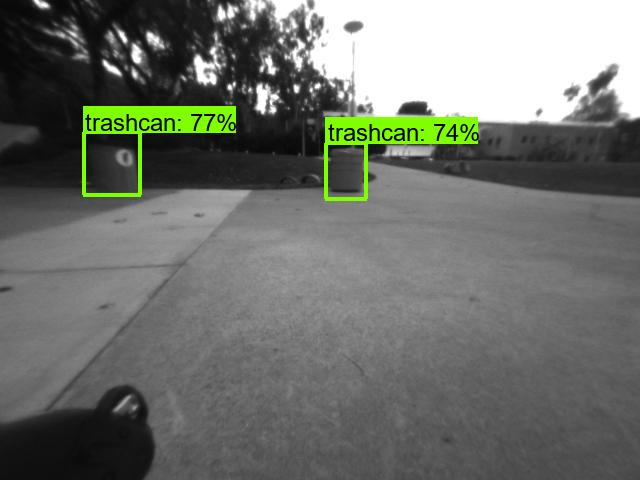trashcan: (87, 142, 141, 194), (326, 146, 368, 200)
